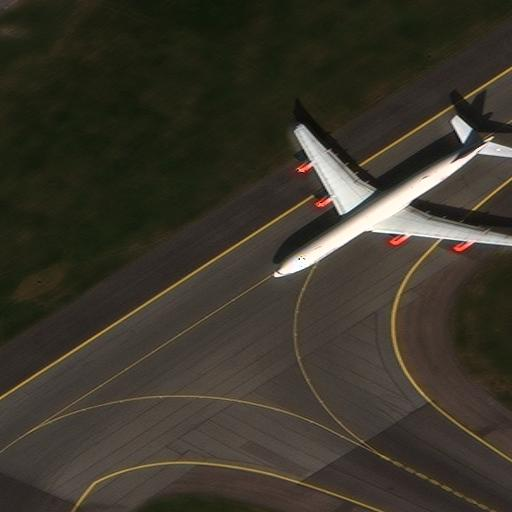Large Civil Transport: (264, 135, 512, 280)
